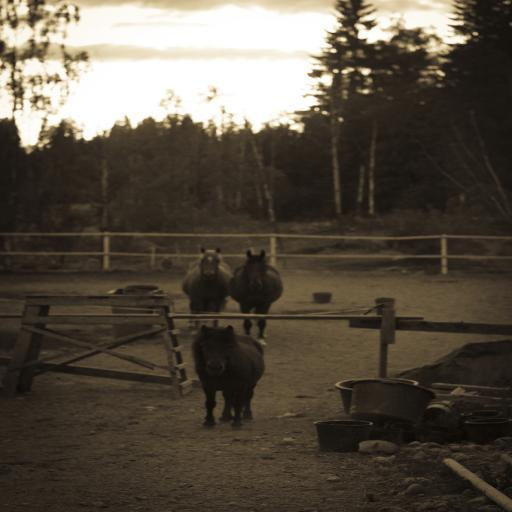horse: (188, 323, 263, 433), (226, 250, 286, 338), (178, 244, 236, 320)
